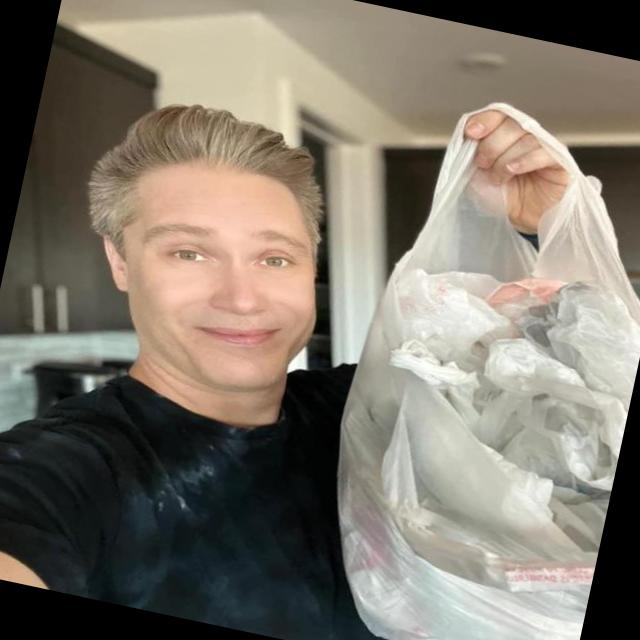KantongPlastik: (294, 82, 640, 640)
